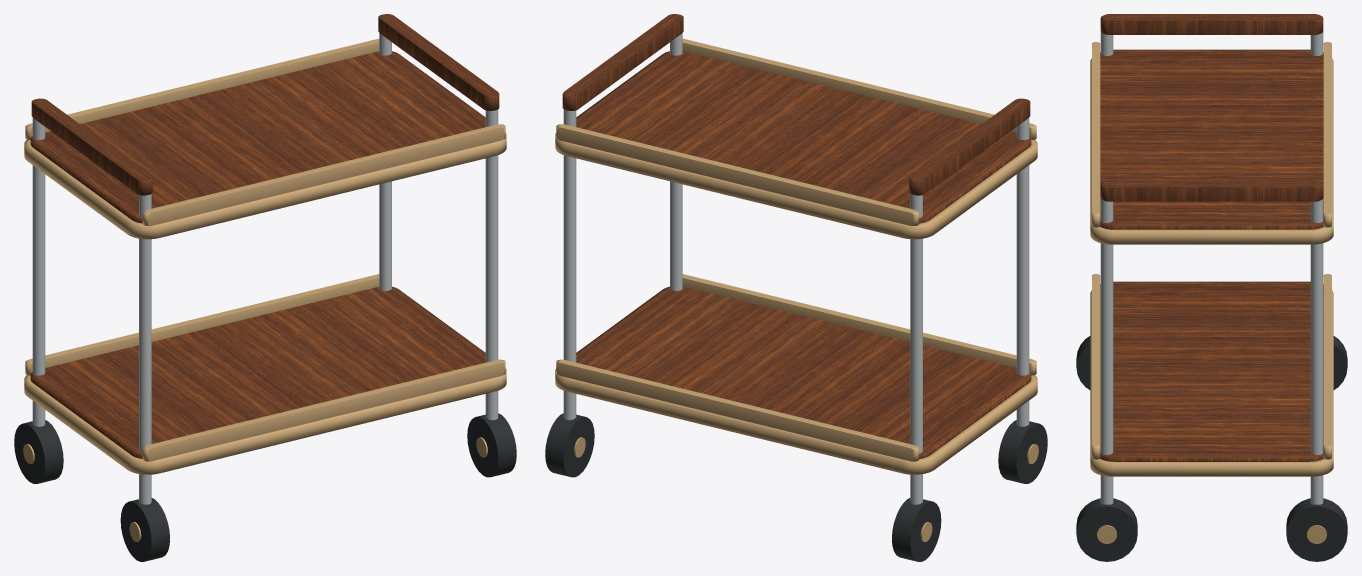
File: TwoTierFoodServiceCart.glb
3 renders of one model, left to right at view 1: azimuth 30°, elevation 25°; view 2: azimuth 150°, elevation 25°; view 3: azimuth 270°, elevation 25°, orthographic.
Visible parts, largest first — view 1: Axle cap; view 2: Axle cap; view 3: Axle cap.
Boxes of the visible parts, bbox=[...] form: Axle cap: bbox=[14, 14, 516, 561]; Axle cap: bbox=[545, 14, 1047, 561]; Axle cap: bbox=[1076, 14, 1347, 561].
Bounding box in the file's own units: 1.02 × 0.982 × 0.646.
4 materials, 1 textured.
